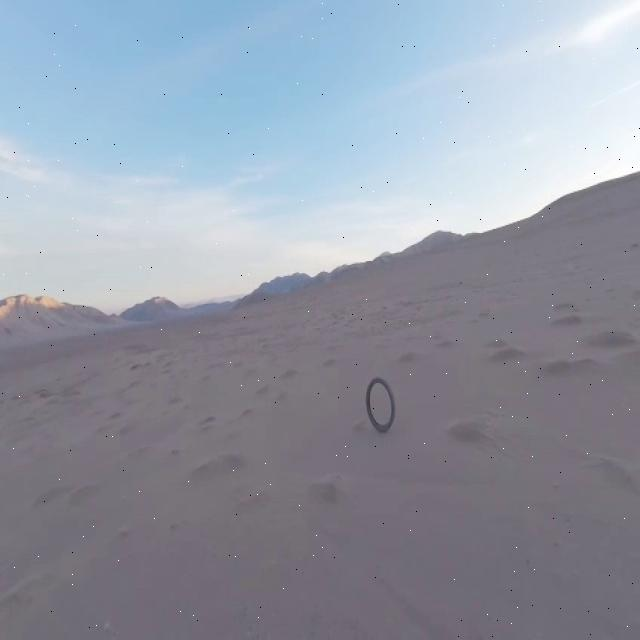Tire: (366, 378, 394, 432)
